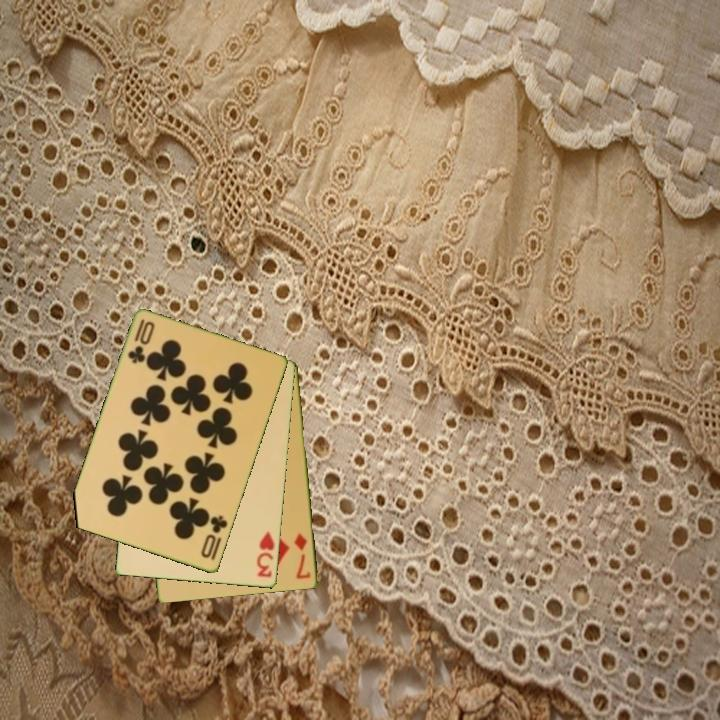10c: (124, 316, 158, 367), (197, 512, 231, 561)
3h: (253, 529, 278, 581)
7d: (291, 530, 314, 582)
